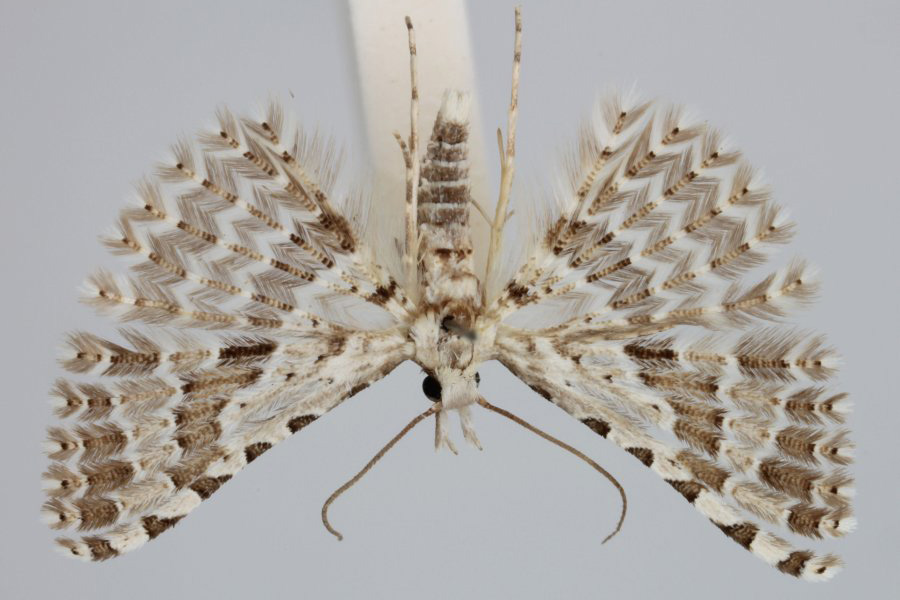Alucitidae: (31, 1, 856, 593)
moth: (33, 3, 858, 595)
